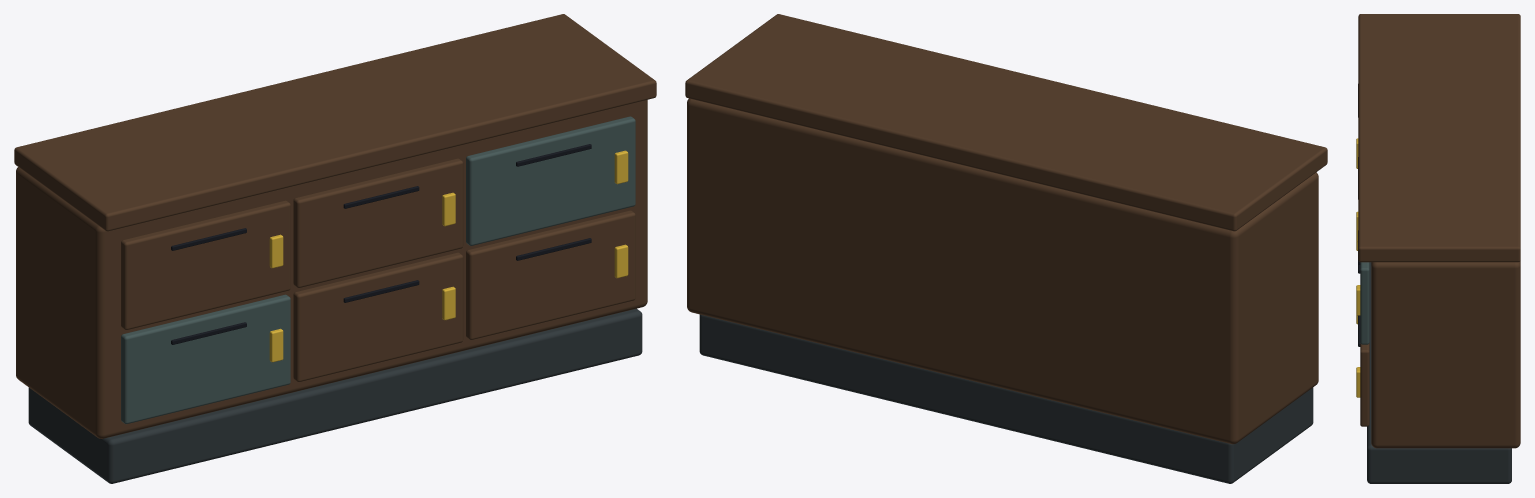
File: campus-storage-low-walnut.glb
3 renders of one model, left to right at view 1: azimuth 30°, elevation 25°; view 2: azimuth 150°, elevation 25°; view 3: azimuth 270°, elevation 25°, orthographic. The views are drawn at different scales.
Size of the model in its own units: 1.3 by 0.624 by 0.385.
